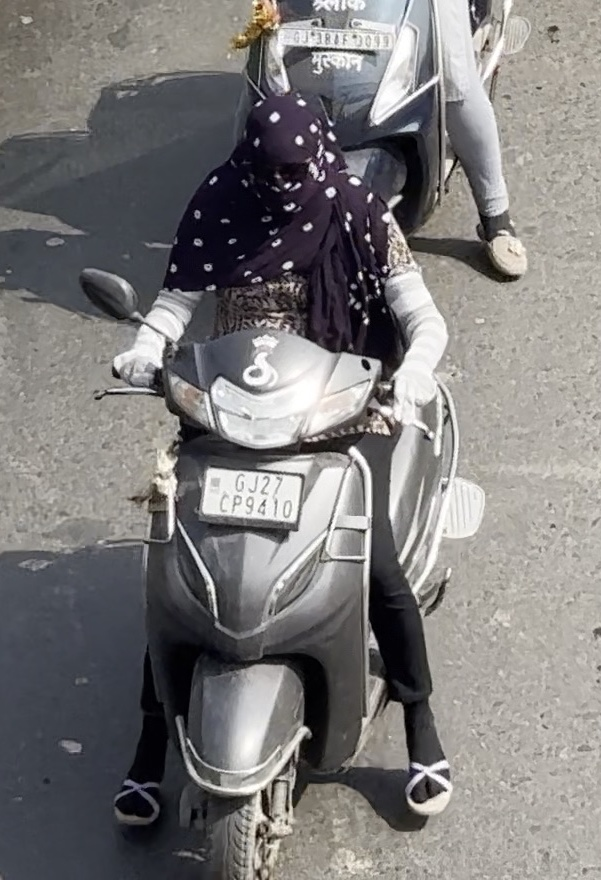BikeWithRider: (70, 84, 496, 879)
NoHelmet: (229, 86, 342, 221)
